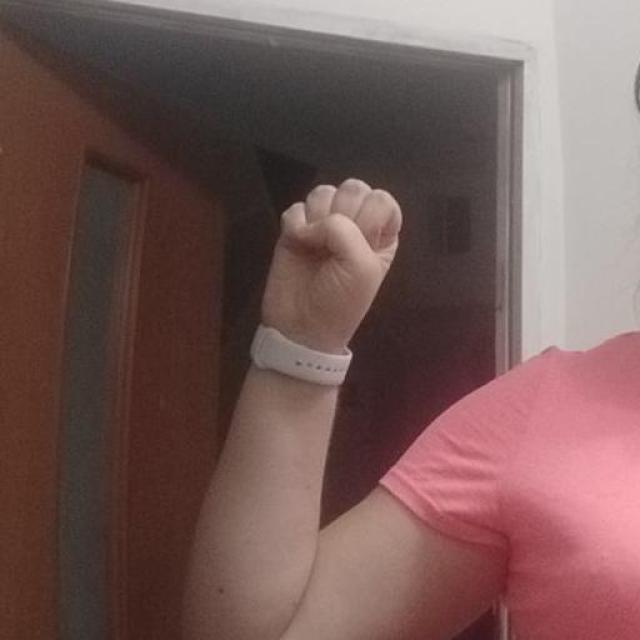hand: (258, 176, 402, 354)
